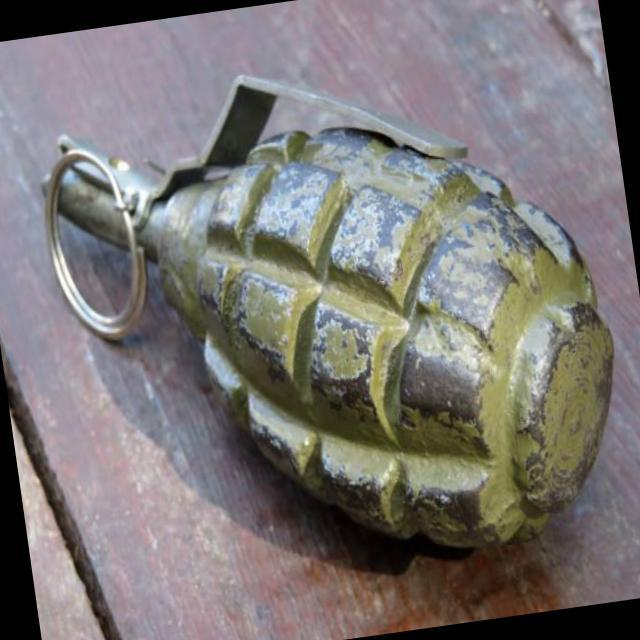grenade: (23, 29, 640, 605)
